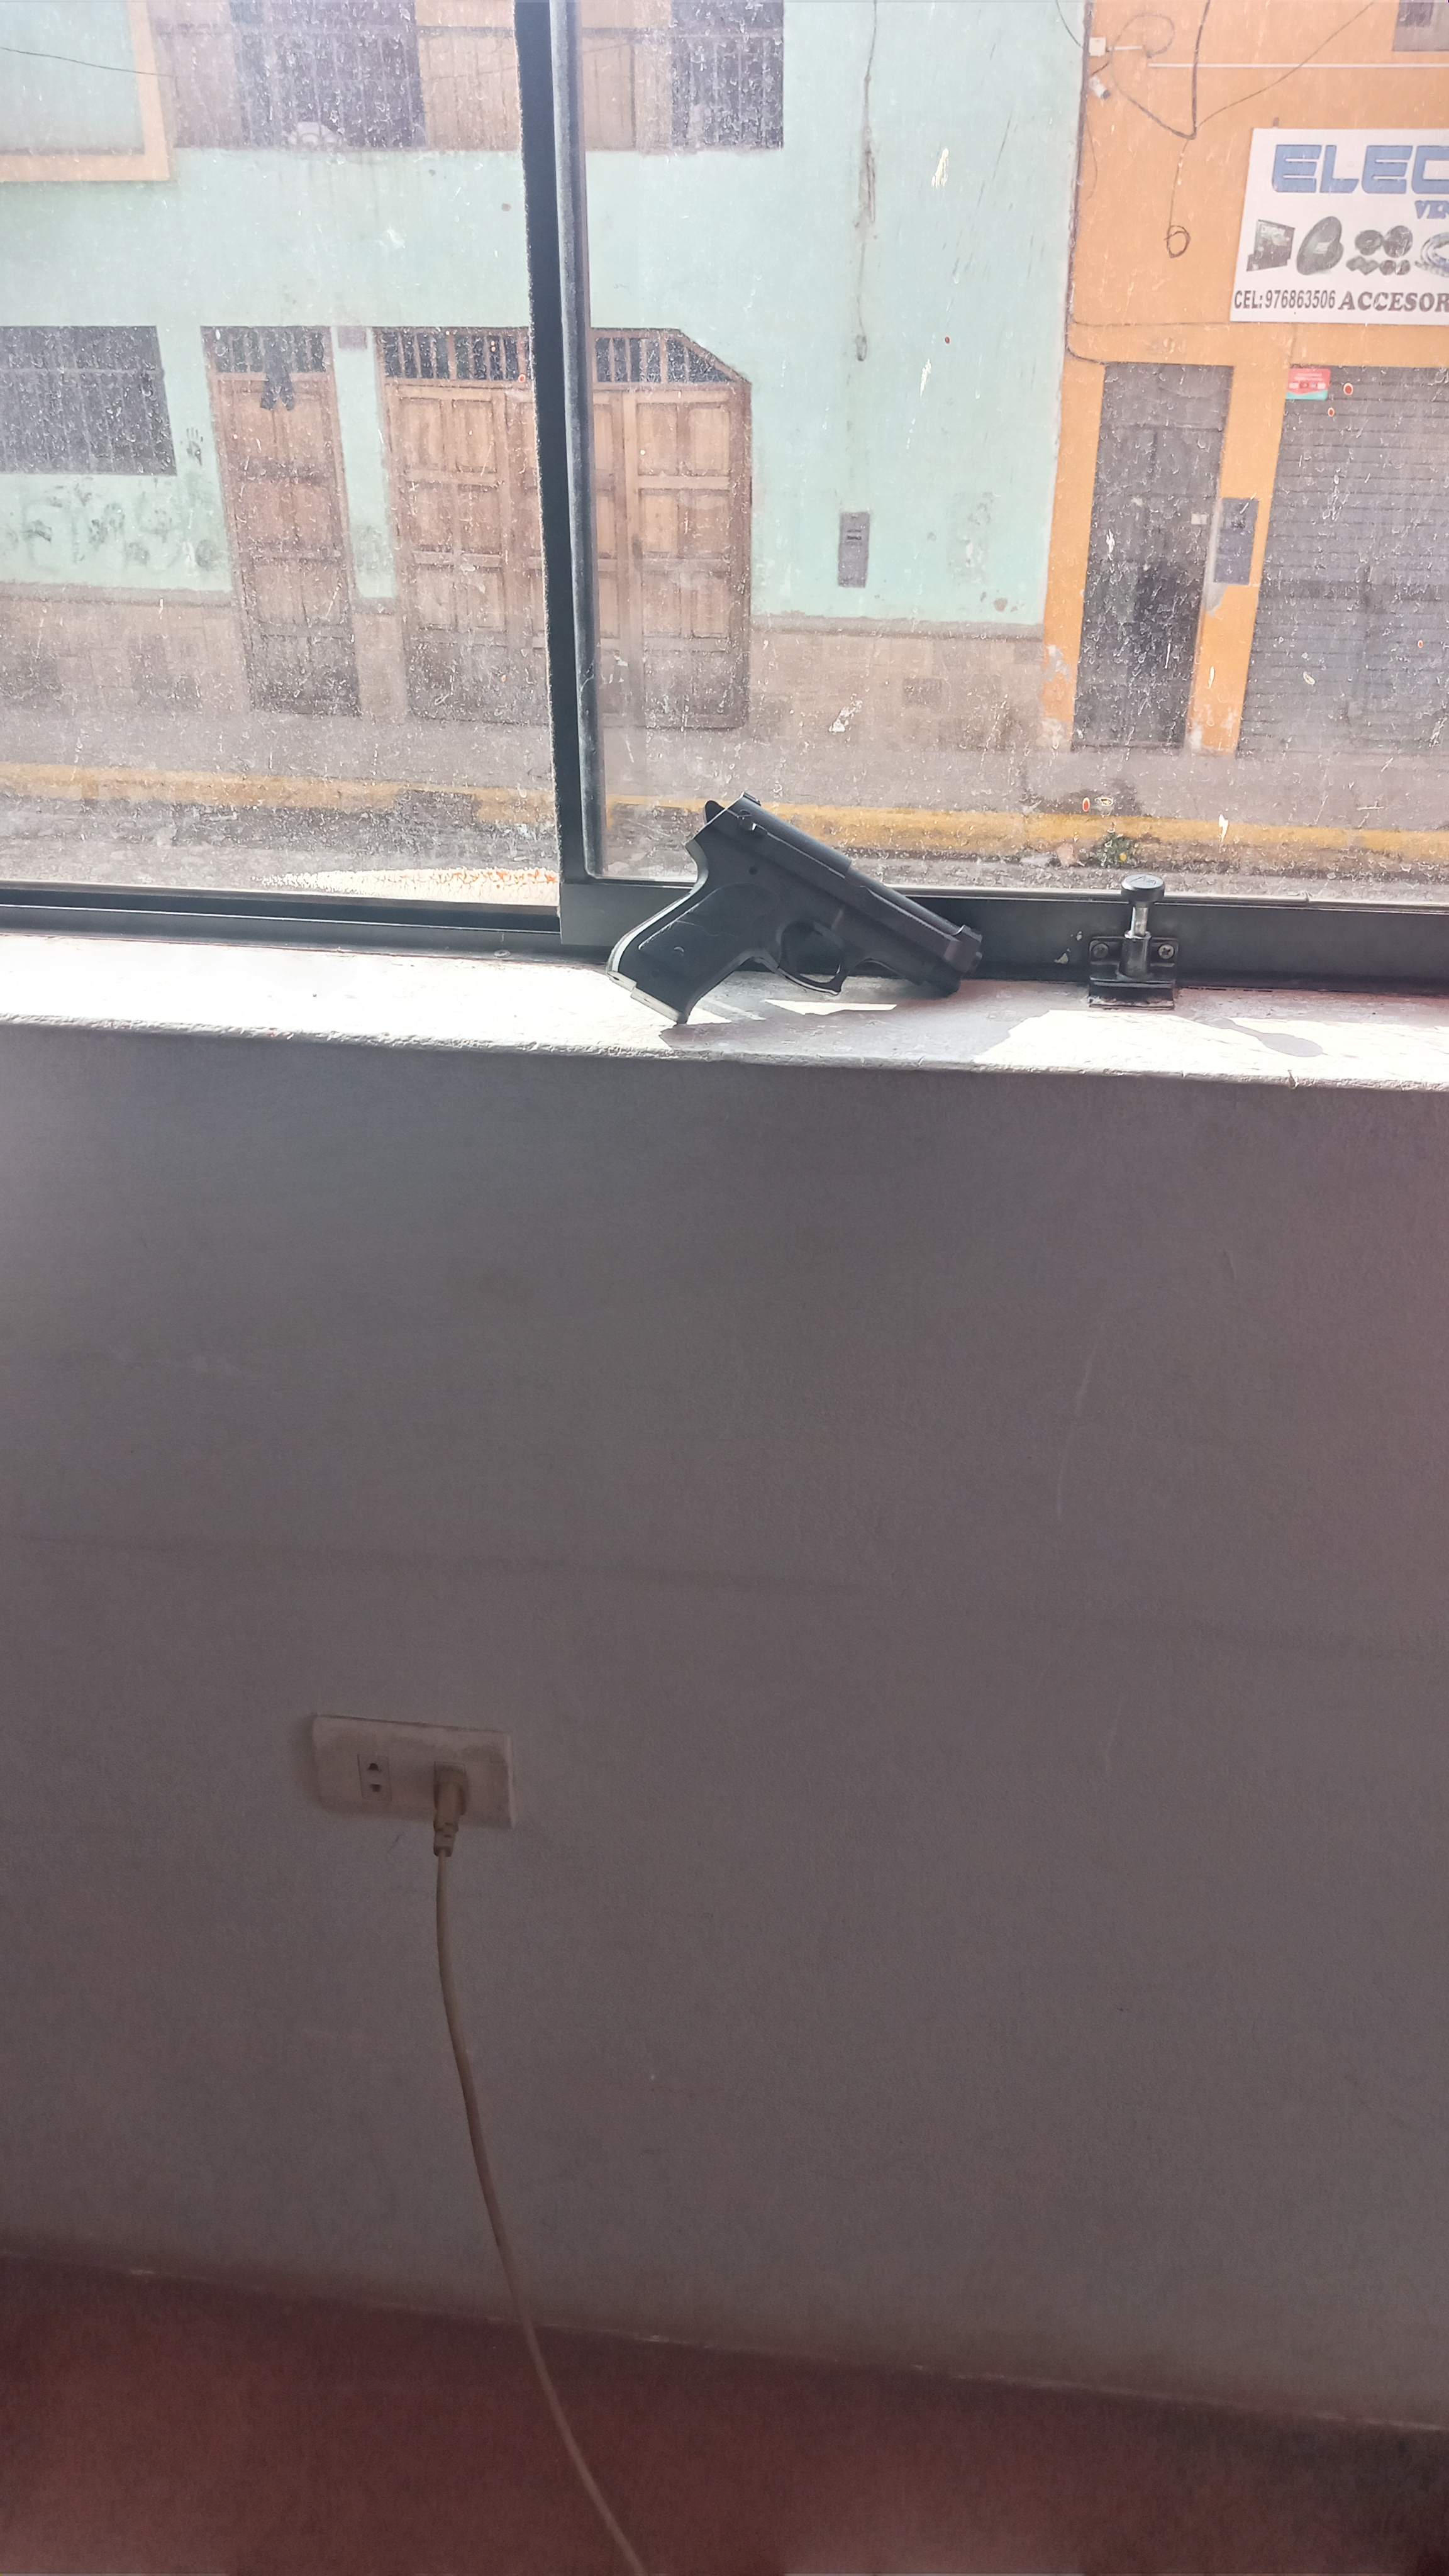Arma: (663, 824, 989, 1001)
